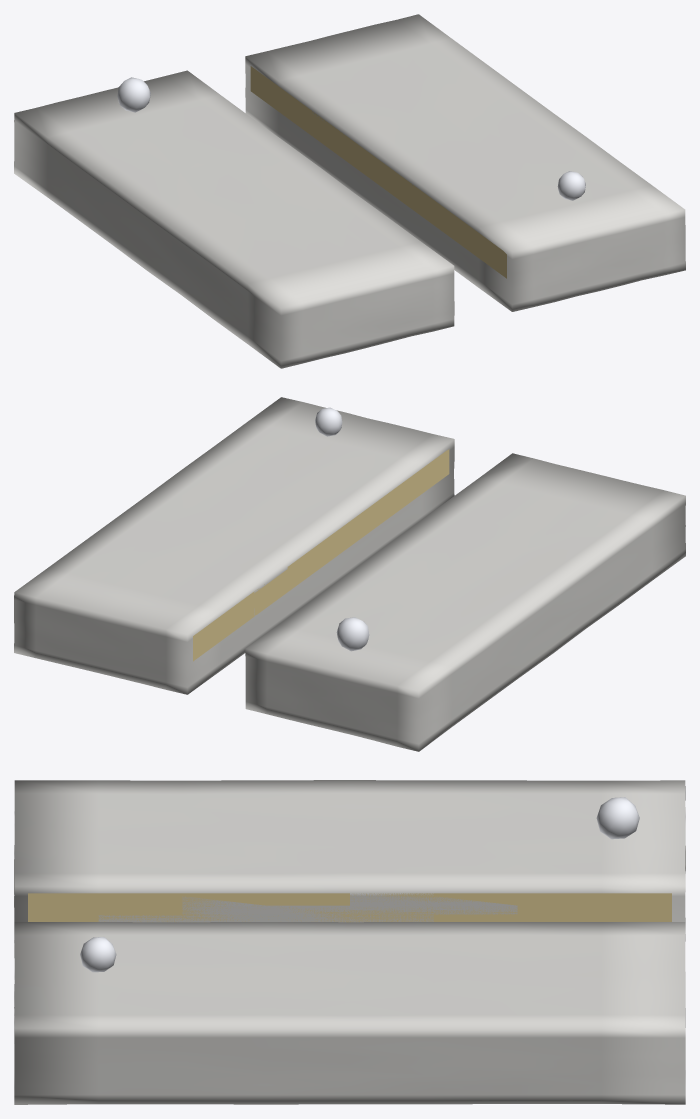
File: OBS_CloudGap.glb
The picture shows the model from 3 angles, top to bottom: view 1: azimuth 30°, elevation 25°; view 2: azimuth 150°, elevation 25°; view 3: azimuth 270°, elevation 25°; orthographic projection. The views are drawn at different scales.
Visible parts, largest first — view 1: OBS_CloudGap; view 2: OBS_CloudGap; view 3: OBS_CloudGap.
Boxes of the visible parts, x1,y1,x2,y2 form: OBS_CloudGap: [14, 14, 685, 368]; OBS_CloudGap: [14, 397, 685, 751]; OBS_CloudGap: [14, 780, 685, 1104].
Bounding box in the file's own units: 7.01 × 1.54 × 8.02.
